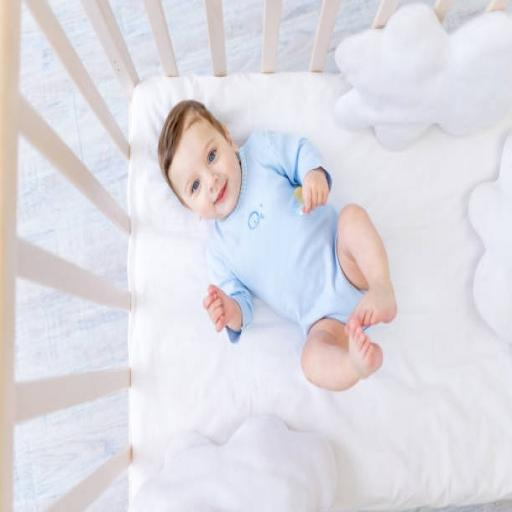baby: (158, 100, 396, 389)
crib: (0, 0, 130, 510)
